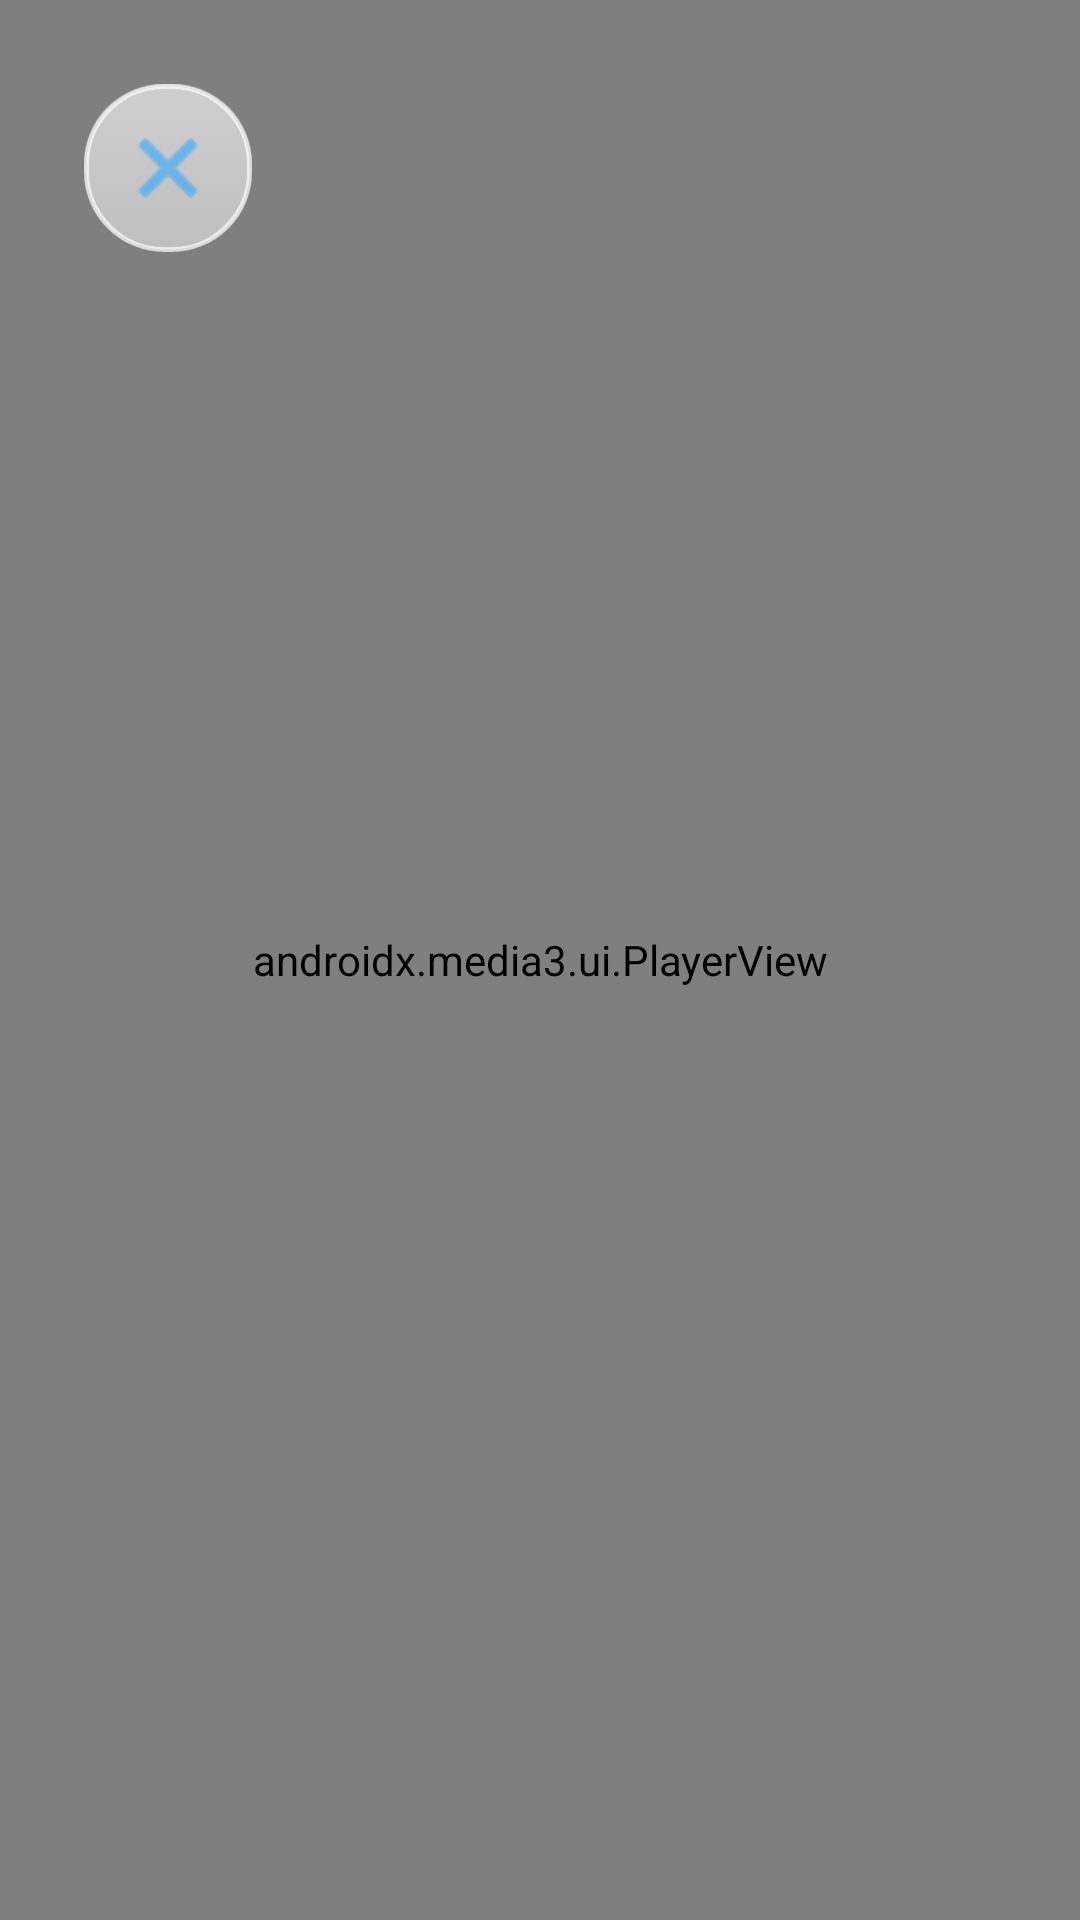

Icons on this 1080w x 1920h Android screen, each with the point to tap as [x,y]:
종료: [168,168]
